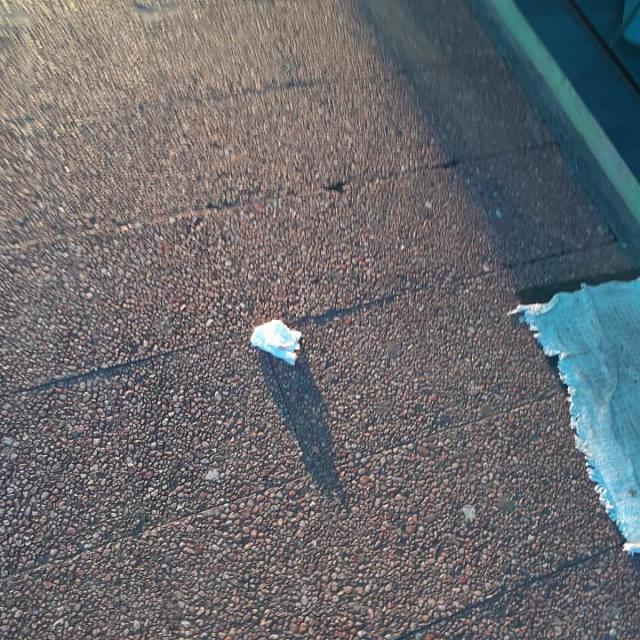litter: (245, 314, 310, 373)
